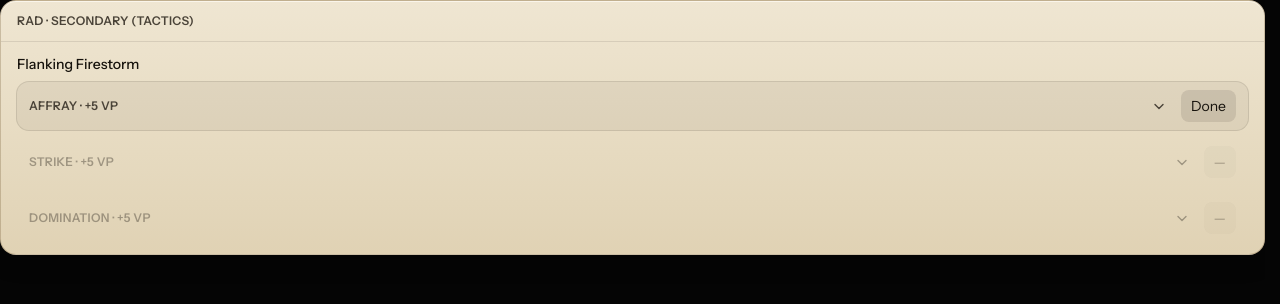
Test: BattleRecordTacticTracker › hides stage rule text until the stage is expanded
This screenshot has width=1280, height=304.
Expected: the text "Ambuscade condition text." is not shown
Click the button named "Show Affray details" at (1159, 106), box [1145,92,1173,120]
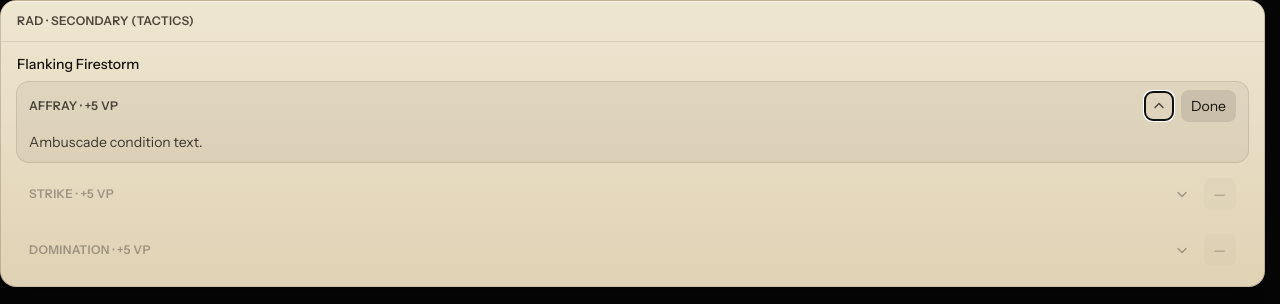
Now the text "Ambuscade condition text." is shown, box [29,133,202,151]
